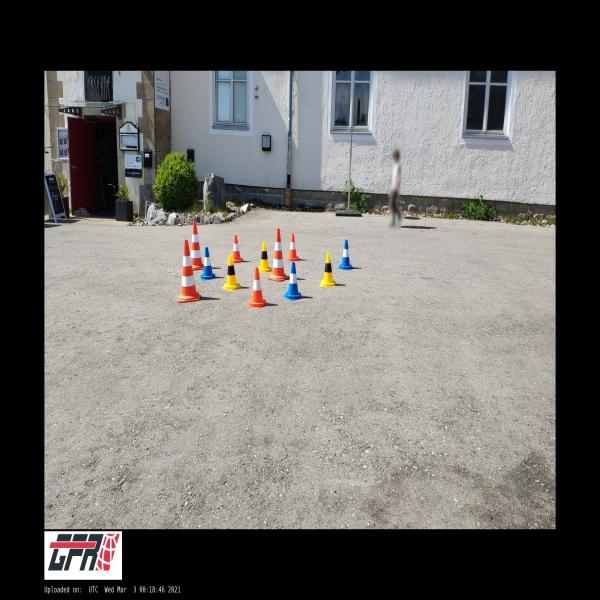blue_cone: (282, 262, 304, 301), (199, 247, 217, 281), (338, 240, 353, 271)
large_orange_cone: (178, 240, 200, 302), (268, 228, 290, 281), (191, 222, 203, 270)
orange_cone: (246, 268, 268, 308), (287, 233, 299, 261), (233, 234, 243, 263)
yellow_cone: (222, 255, 242, 290), (320, 252, 335, 286), (259, 242, 272, 272)
